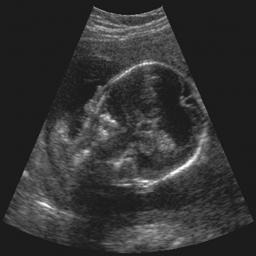abnormal: (84, 59, 210, 193)
